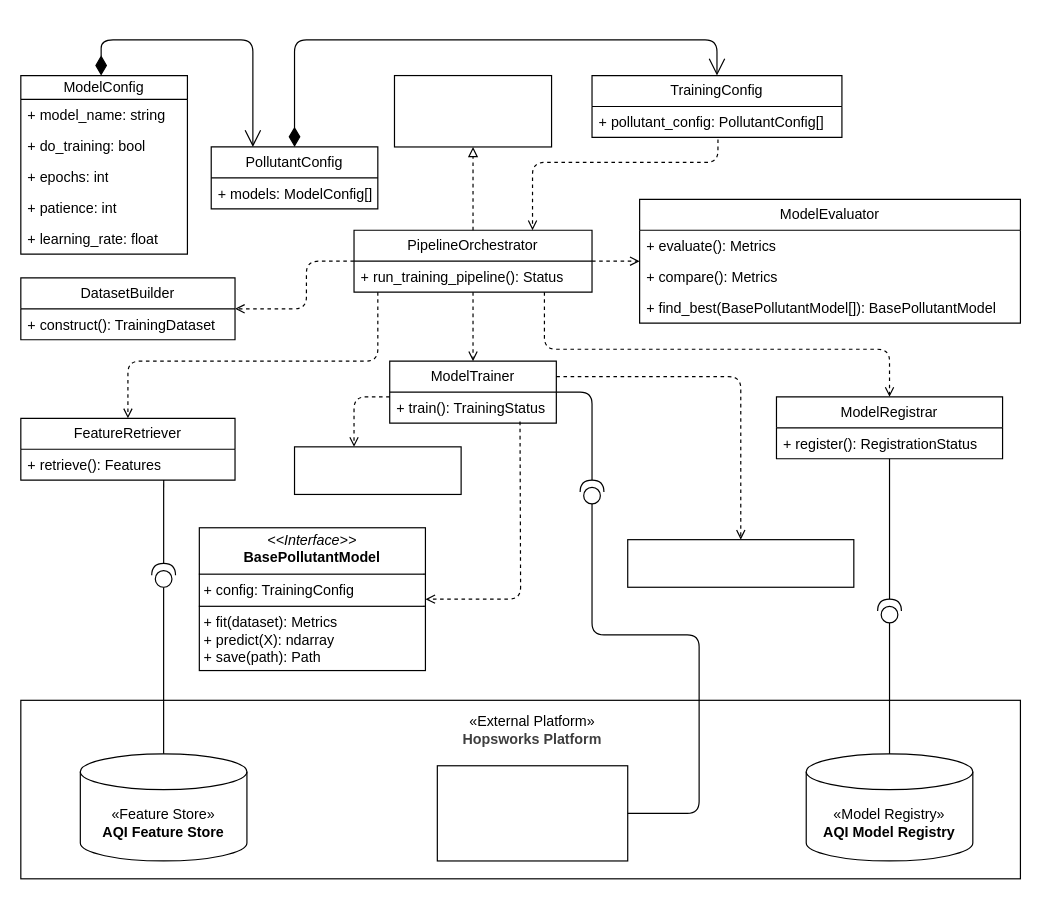
Some shapes in this 1041 by 900 pixel diagram are drawn without their labels. Each missing label, with the centre of its shape:
"<<Interface>> Callbacks" goes at point 740,562.
"Pretrained Registry" goes at point 377,470.
"«External Service» MLflow Tracking Server" goes at point 532,813.
"«interface» Training Pipeline Interface" goes at point 472,110.
